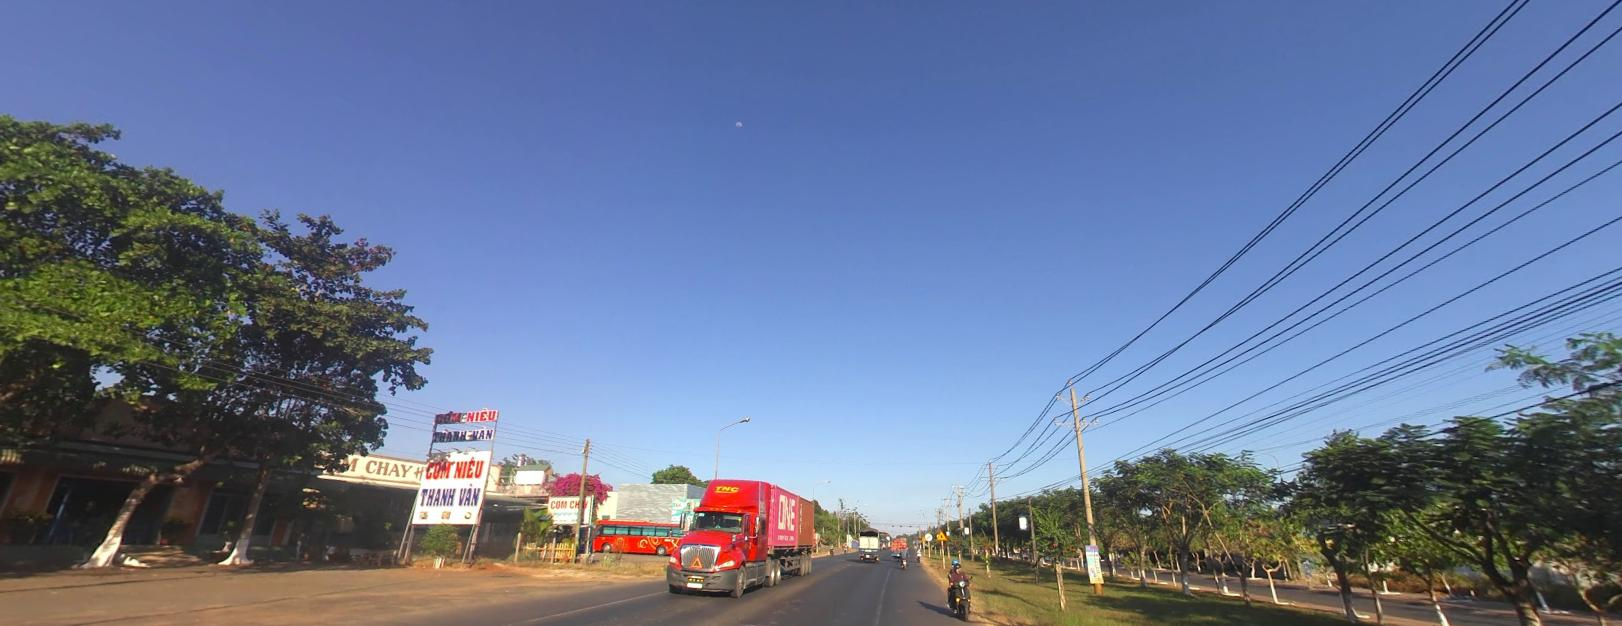Nguy hiem: (935, 528, 947, 540), (920, 534, 925, 540)
